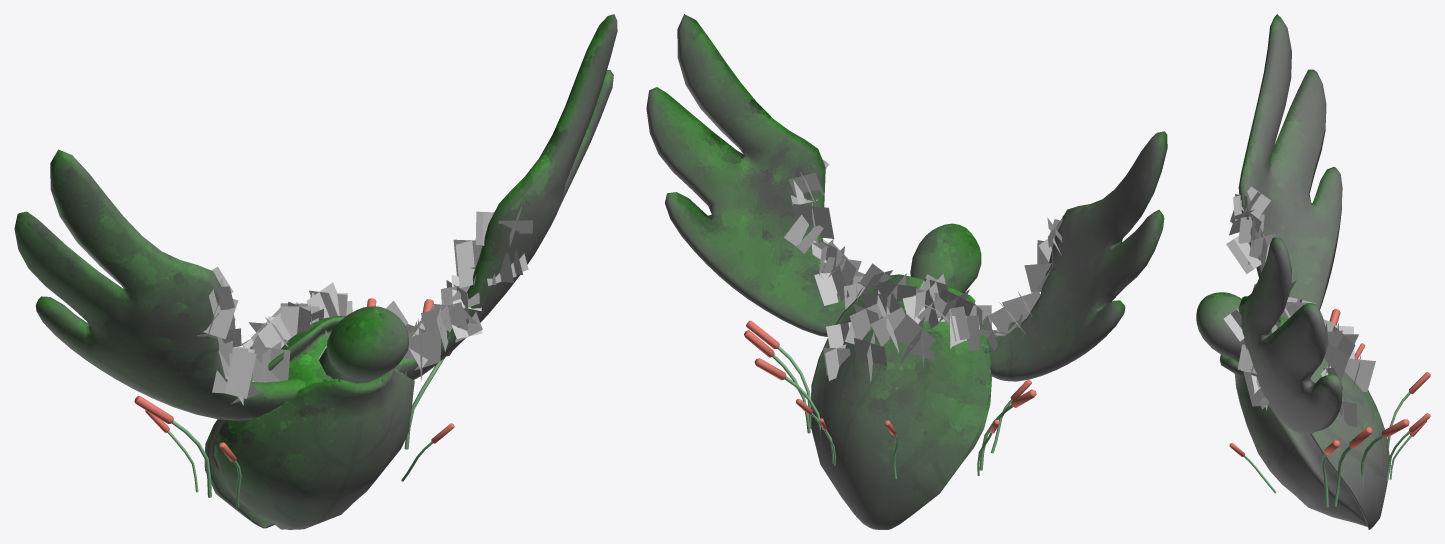
The model's file is Aquaphim_statue.fbx.
3 views of the same model, side by side, from view 1: azimuth 30°, elevation 25°; view 2: azimuth 150°, elevation 25°; view 3: azimuth 270°, elevation 25° (orthographic). The views are drawn at different scales.
Parts seen in each view (by area): view 1: aquaphim_statue, aquaphim_cattail; view 2: aquaphim_statue, aquaphim_cattail; view 3: aquaphim_statue, aquaphim_cattail.
Part boxes in pixels (box(x1,y1,x2,y2)): aquaphim_statue: box(14, 14, 617, 529); aquaphim_cattail: box(134, 298, 454, 507); aquaphim_statue: box(646, 14, 1167, 529); aquaphim_cattail: box(744, 320, 1036, 479); aquaphim_statue: box(1196, 14, 1390, 529); aquaphim_cattail: box(1229, 309, 1430, 507).
Bounding box in the file's own units: 404 × 316 × 167.
